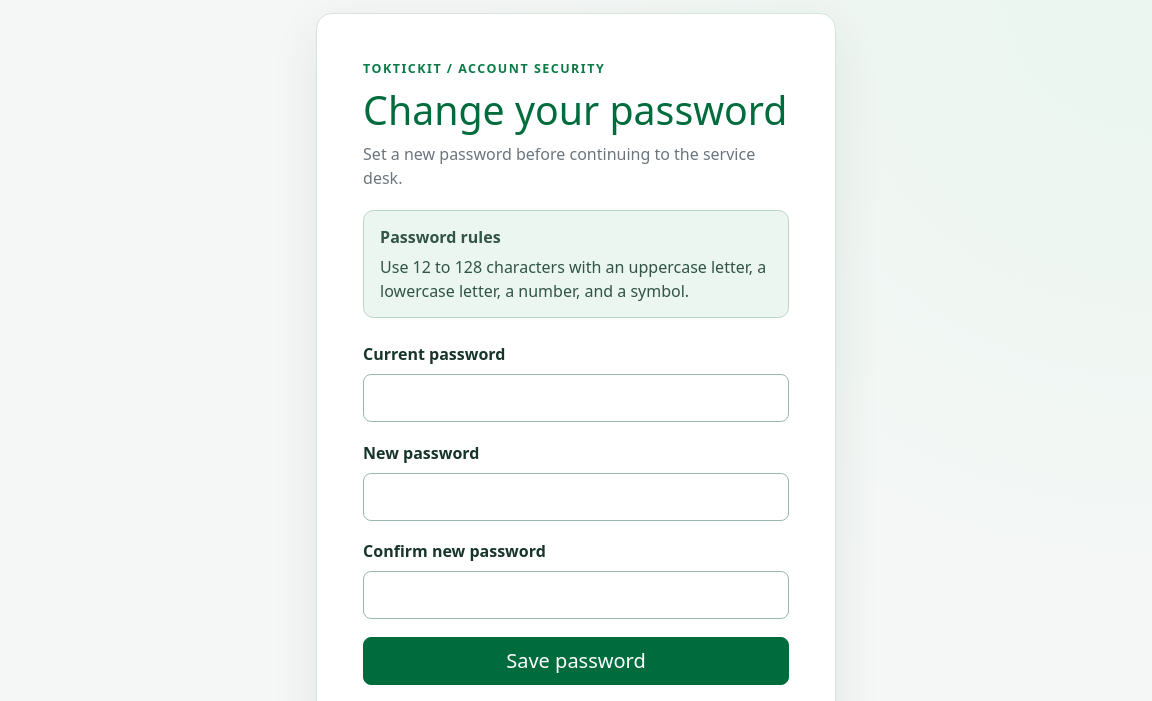
it: Lab 3 Change Password screen › shows safe failure feedback and clears password fields after a rejected change
Expected: the heading "Change your password" is shown, [363,87,789,134]
Type "Wrong-password1!" into the password field labelled "Current password" at (576, 398), box [363,374,789,422]
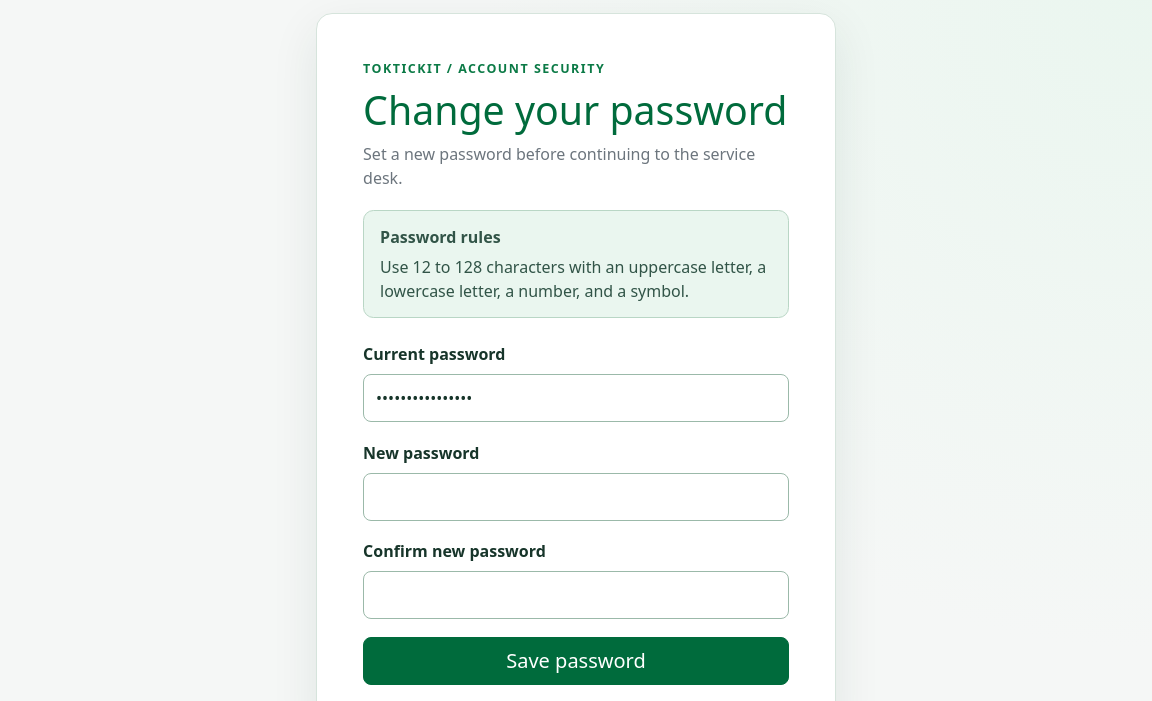
Type "New-strong-password1!" into the password field labelled "New password" at (576, 497), box [363,473,789,521]
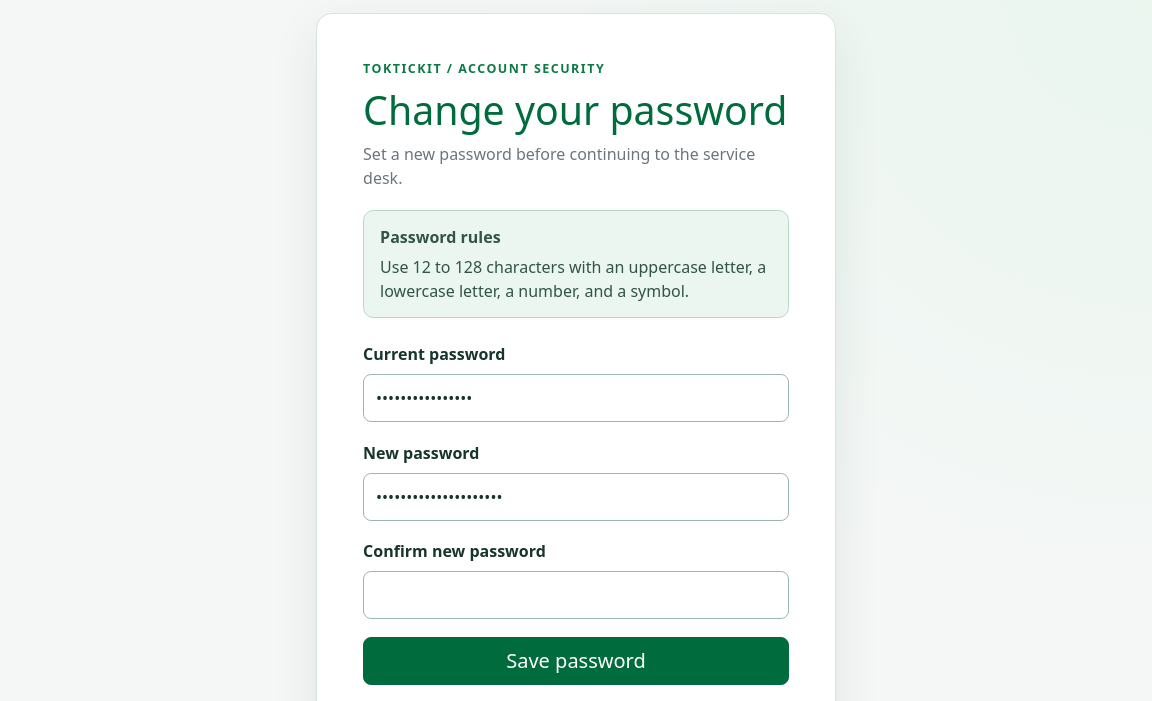
Type "New-strong-password1!" into the password field labelled "Confirm new password" at (576, 595), box [363,571,789,619]
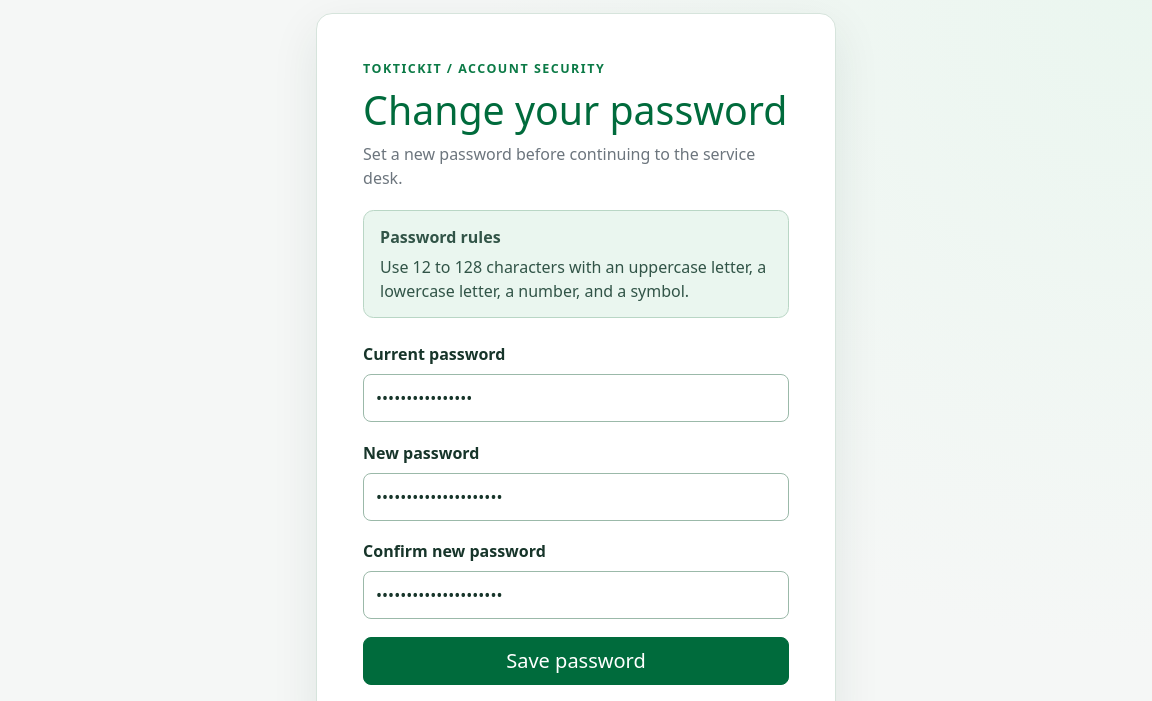
Click the button "Save password" at (576, 662), box [363,638,789,686]
(page scrolled)
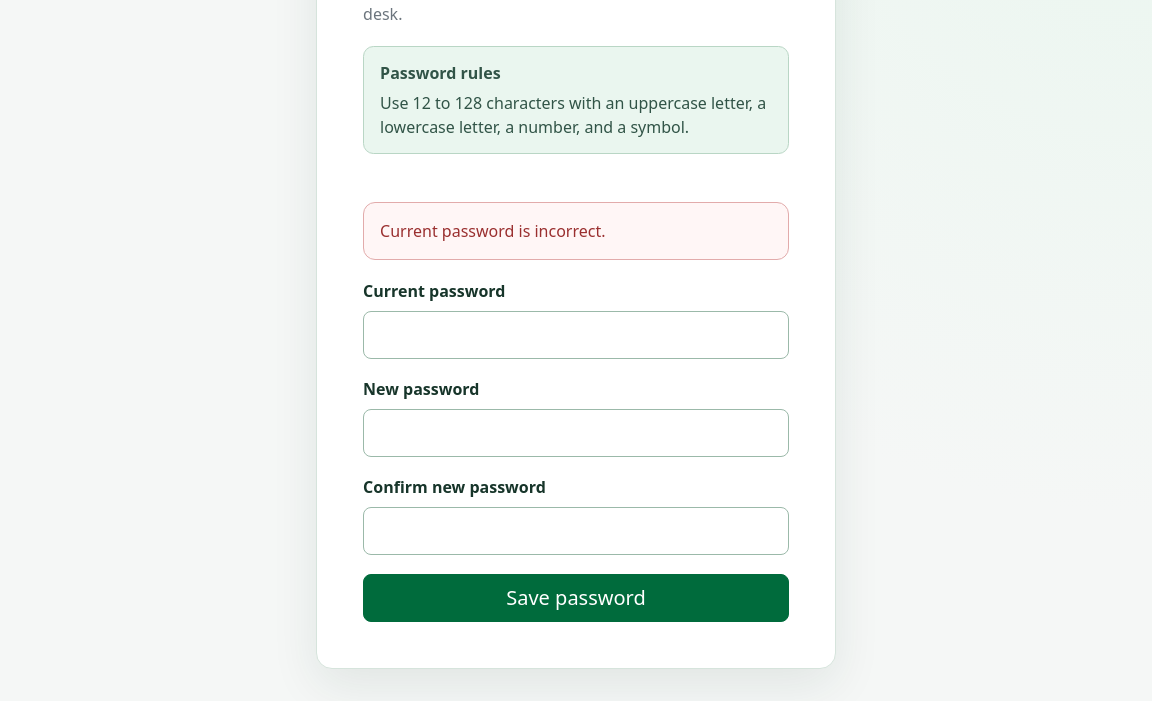
Expected: the message reads "Current password is incorrect.", [380,220,606,242]
Expected: the password field labelled "Current password" is empty, [363,311,789,359]
Expected: the password field labelled "New password" is empty, [363,409,789,457]
